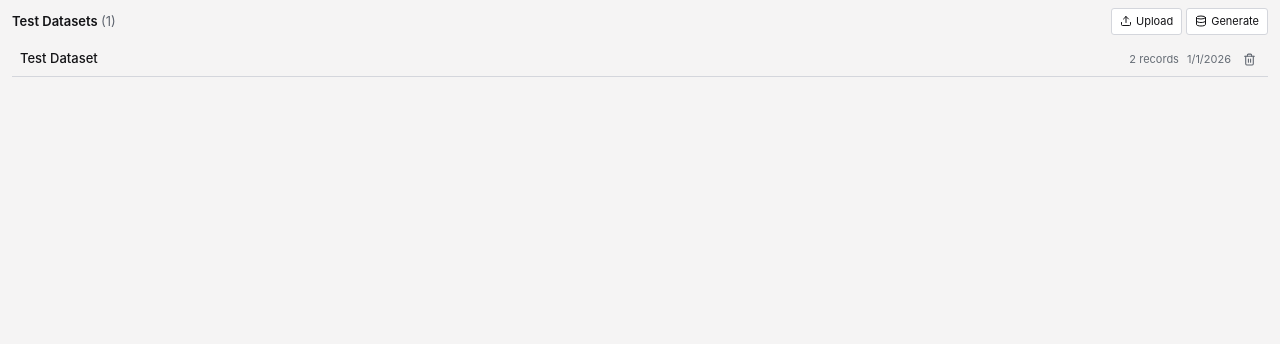
Scenario: [@schema-datasets] SchemaDatasets › edit name and save reflects in list
Click the text "Test Dataset" at (59, 58), box [20,50,98,66]
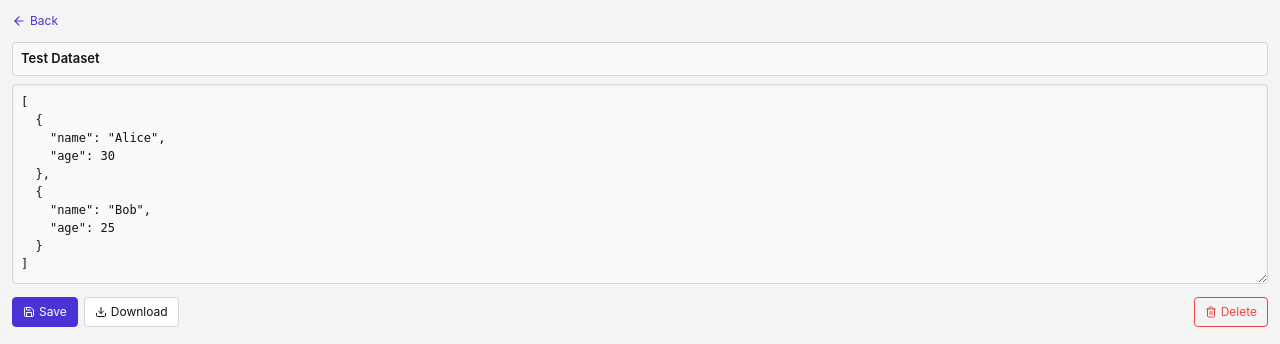
Replace the text in the field named "Dataset name" with "Renamed" at (640, 59), box [12,42,1268,76]
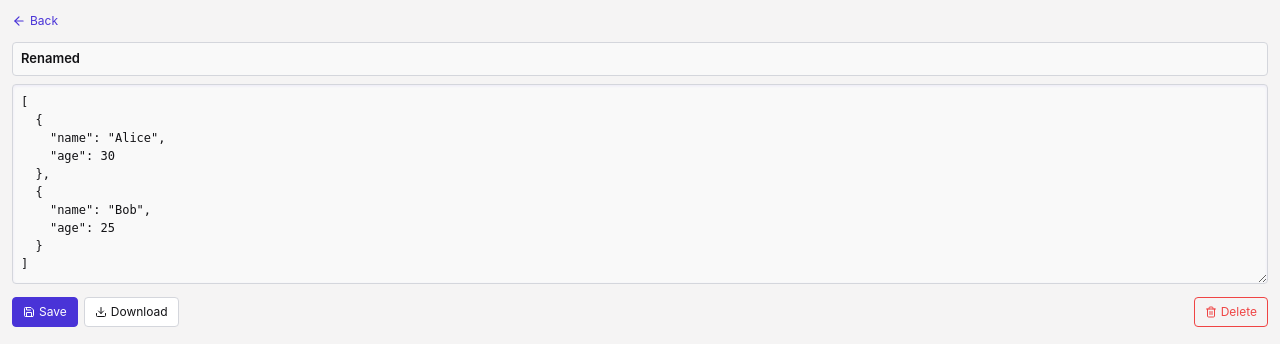
Click the button "Save" at (45, 312), box [12,297,78,327]
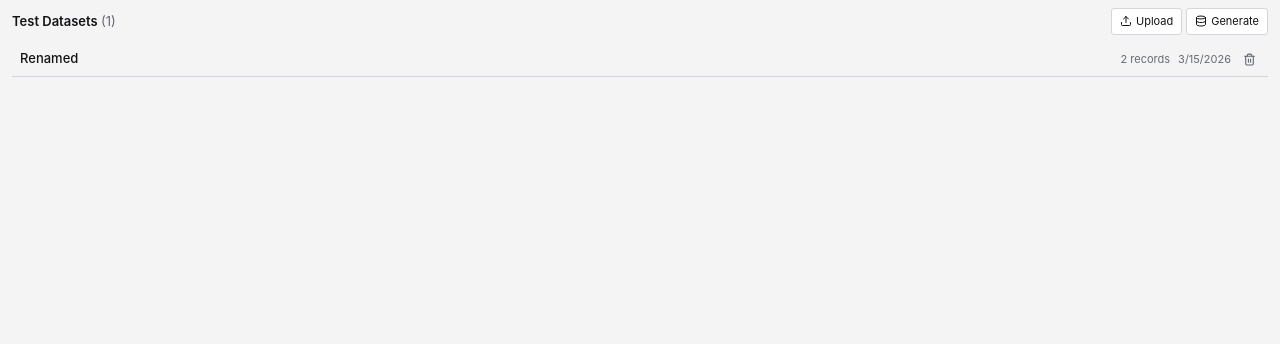
Expected: the text "Renamed" is shown, [20,50,78,66]
